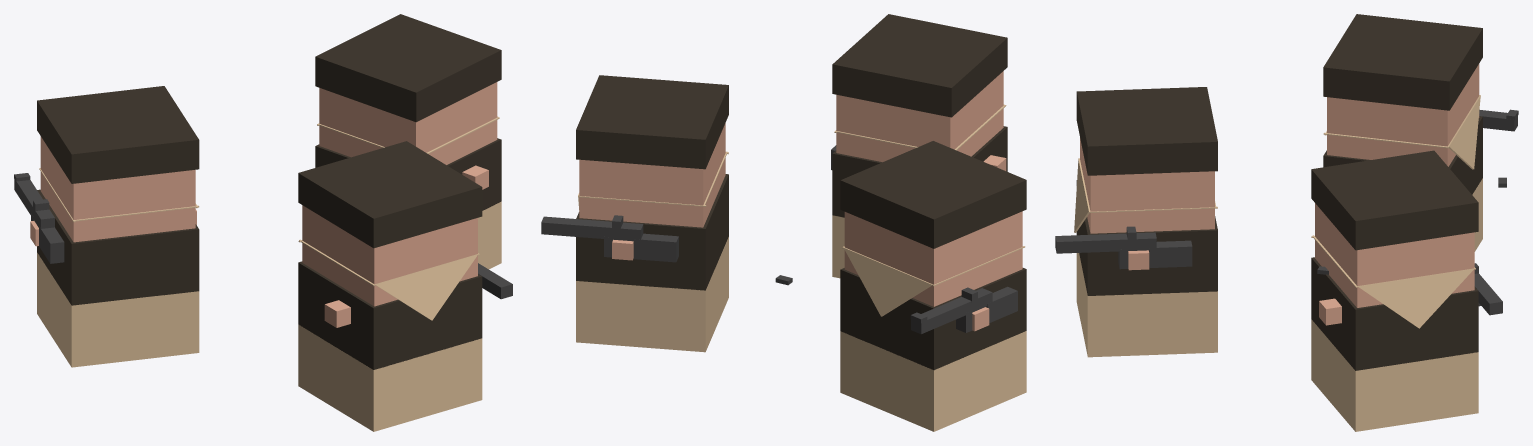
The model's file is doonCommando.gltf.
3 renders of one model, left to right at view 1: azimuth 30°, elevation 25°; view 2: azimuth 150°, elevation 25°; view 3: azimuth 270°, elevation 25°, orthographic.
Visible parts, largest first — view 1: Cube.004, Cube.039, Cube.025, Cube.041, Cube.042, Cube.027, Cube.028, Cube.026, Cube.003, Cube.040, Cylinder.002, Cube.001 (+5 smaller); view 2: Cube.025, Cube.039, Cube.004, Cube.027, Cube.002, Cube.026, Cube.003, Cube.028, Cube.040, Cube.001, Cylinder.001, Cube.042 (+5 smaller); view 3: Cube.004, Cube.025, Cube.039, Cube.002, Cube.001, Cube.041, Cube.040, Cube.026, Cube.003, Cube.042, Cylinder, Cube.038 (+7 smaller).
Boxes of the visible parts, <box> form: Cube.004: <box>315,14,501,122</box>; Cube.039: <box>298,141,482,248</box>; Cube.025: <box>37,86,199,183</box>; Cube.041: <box>298,324,482,431</box>; Cube.042: <box>298,261,482,369</box>; Cube.027: <box>37,252,199,367</box>; Cube.028: <box>37,189,199,305</box>; Cube.026: <box>40,136,195,242</box>; Cube.003: <box>319,82,497,164</box>; Cube.040: <box>302,205,477,306</box>; Cylinder.002: <box>375,254,477,320</box>; Cube.001: <box>315,138,501,210</box>; Cube.025: <box>840,141,1026,248</box>; Cube.039: <box>832,14,1007,117</box>; Cube.004: <box>576,75,728,169</box>; Cube.027: <box>840,331,1026,431</box>; Cube.002: <box>576,237,728,352</box>; Cube.026: <box>844,211,1022,306</box>; Cube.003: <box>579,123,725,227</box>; Cube.028: <box>840,268,1026,370</box>; Cube.040: <box>836,71,1003,162</box>; Cube.001: <box>576,174,728,290</box>; Cylinder.001: <box>844,247,932,316</box>; Cube.042: <box>832,126,1007,217</box>; Cube.004: <box>1311,150,1478,250</box>; Cube.025: <box>1323,14,1482,110</box>; Cube.039: <box>1076,87,1217,175</box>; Cube.002: <box>1311,319,1478,431</box>; Cube.001: <box>1311,257,1478,370</box>; Cube.041: <box>1076,253,1217,357</box>; Cube.040: <box>1080,138,1214,233</box>; Cube.026: <box>1327,64,1479,166</box>; Cube.003: <box>1315,203,1474,307</box>; Cube.042: <box>1076,180,1217,295</box>; Cylinder: <box>1357,268,1474,328</box>; Cube.038: <box>1055,232,1156,253</box>.
Bounding box in the file's own units: 3.48 × 1.63 × 3.24.
